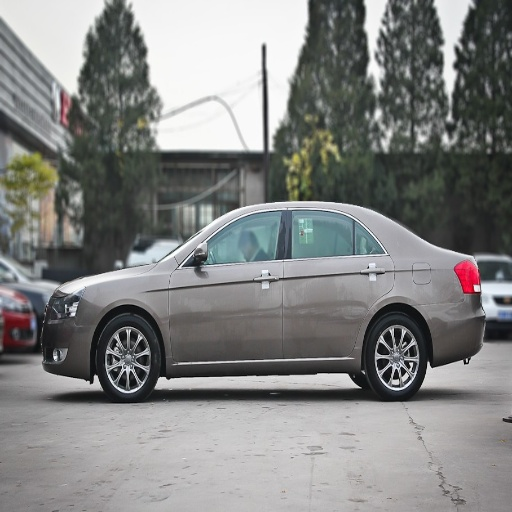back_left_door: (285, 209, 392, 358)
front_left_door: (170, 210, 287, 362)
